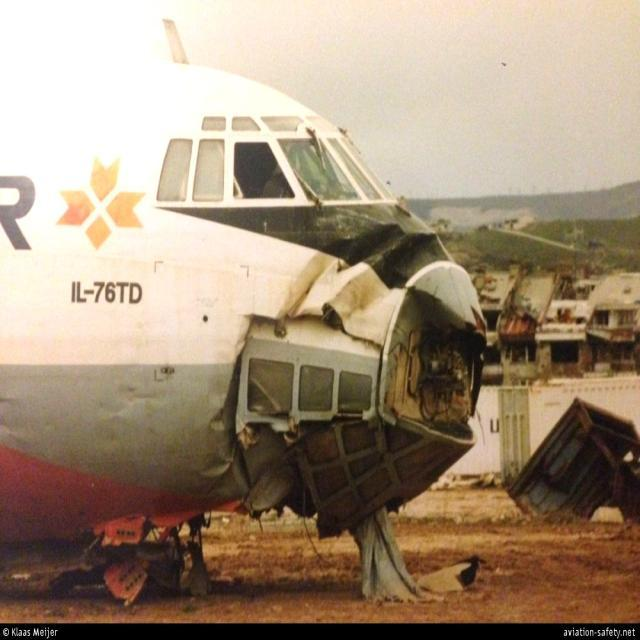dent: (200, 413, 239, 476)
